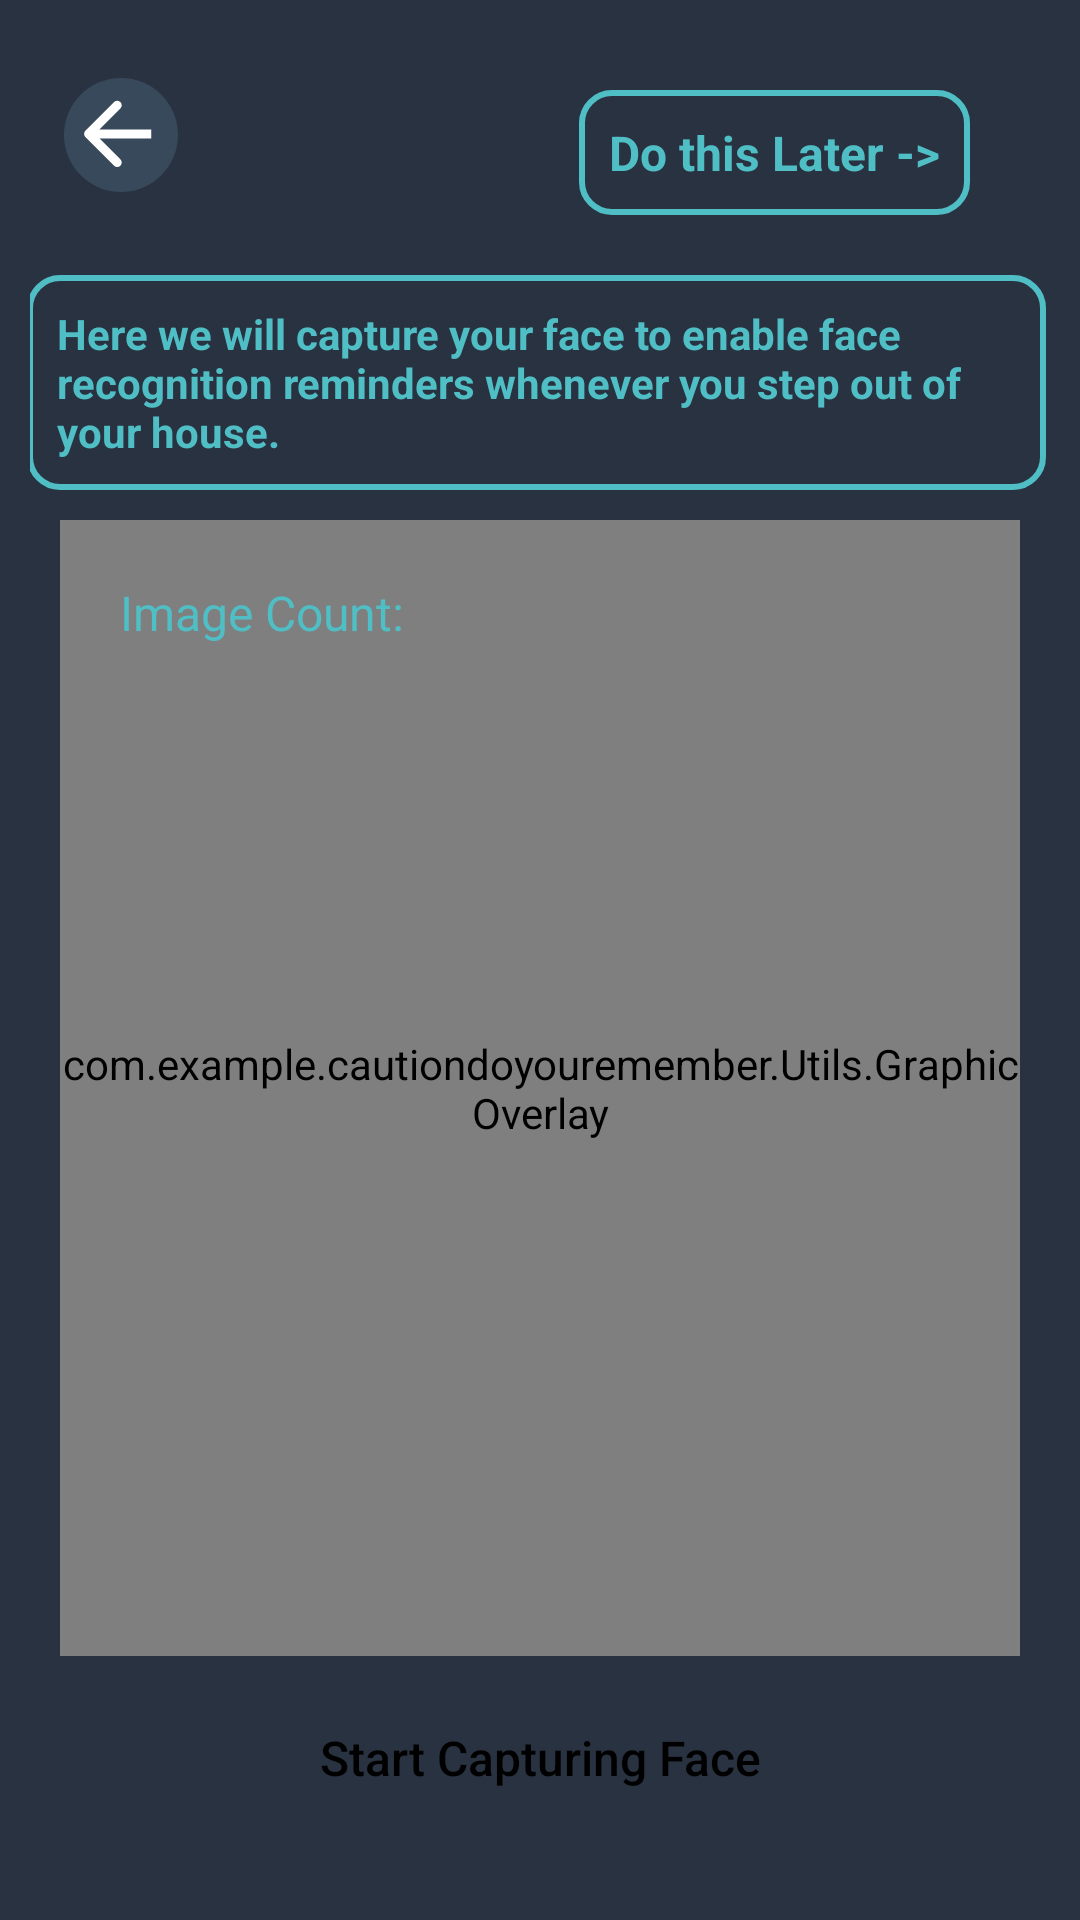

Where to tap for icons on this 1080w x 1920h app screen, as (x,y):
back: (121,135)
